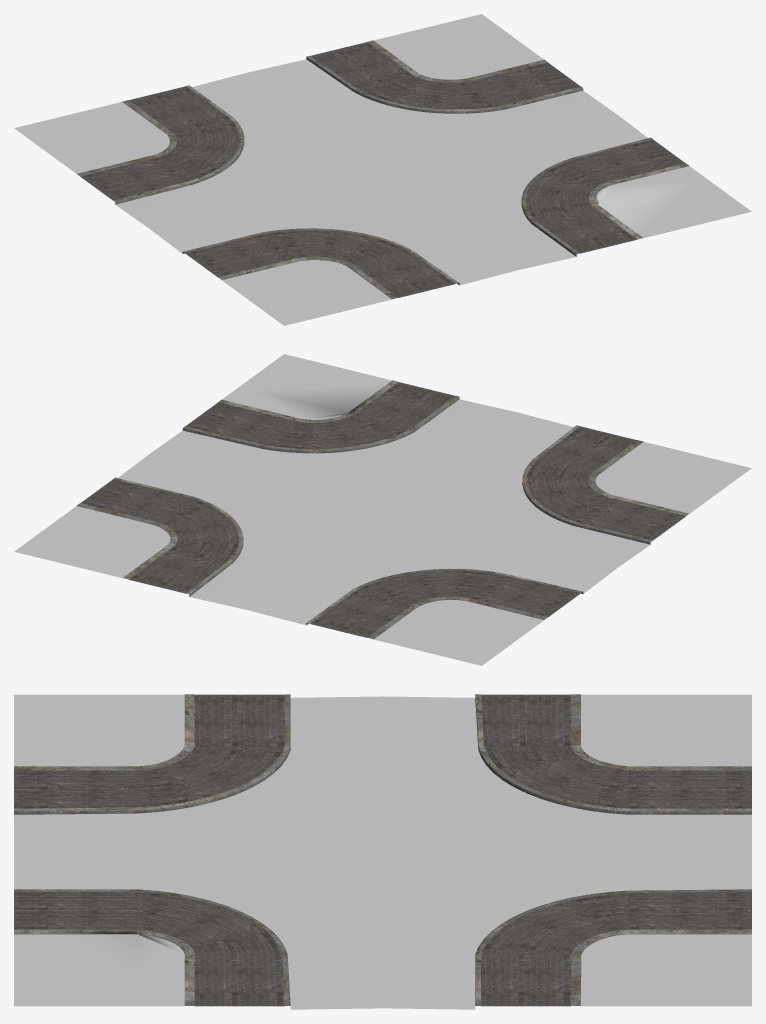
File: Ground_Road_+_Intersection.fbx
3 renders of one model, top to bottom at view 1: azimuth 30°, elevation 25°; view 2: azimuth 150°, elevation 25°; view 3: azimuth 270°, elevation 25°, orthographic. The views are drawn at different scales.
Parts seen in each view (by area): view 1: Ground_Road_+_Intersection; view 2: Ground_Road_+_Intersection; view 3: Ground_Road_+_Intersection.
Boxes of the visible parts, x1,y1,x2,y2 form: Ground_Road_+_Intersection: (14,14,751,325); Ground_Road_+_Intersection: (14,354,751,665); Ground_Road_+_Intersection: (14,694,751,1009).
Bounding box in the file's own units: 2000 × 10.84 × 2000.
